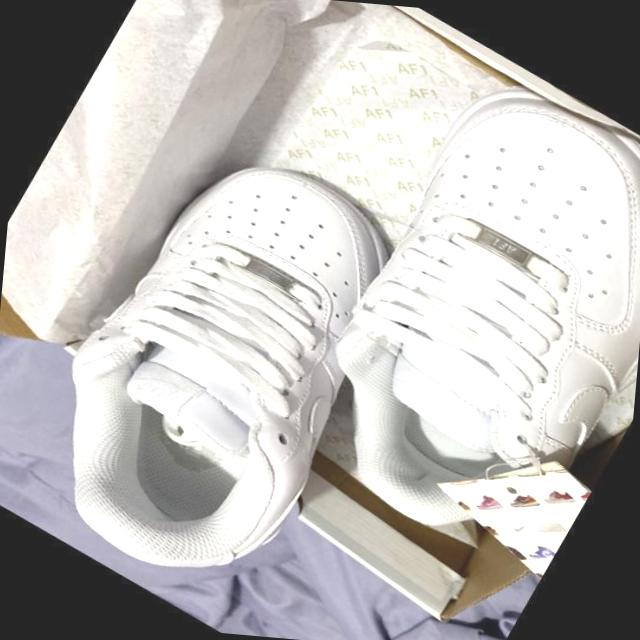nike_original_airforce: (0, 93, 462, 638), (254, 35, 640, 596)
